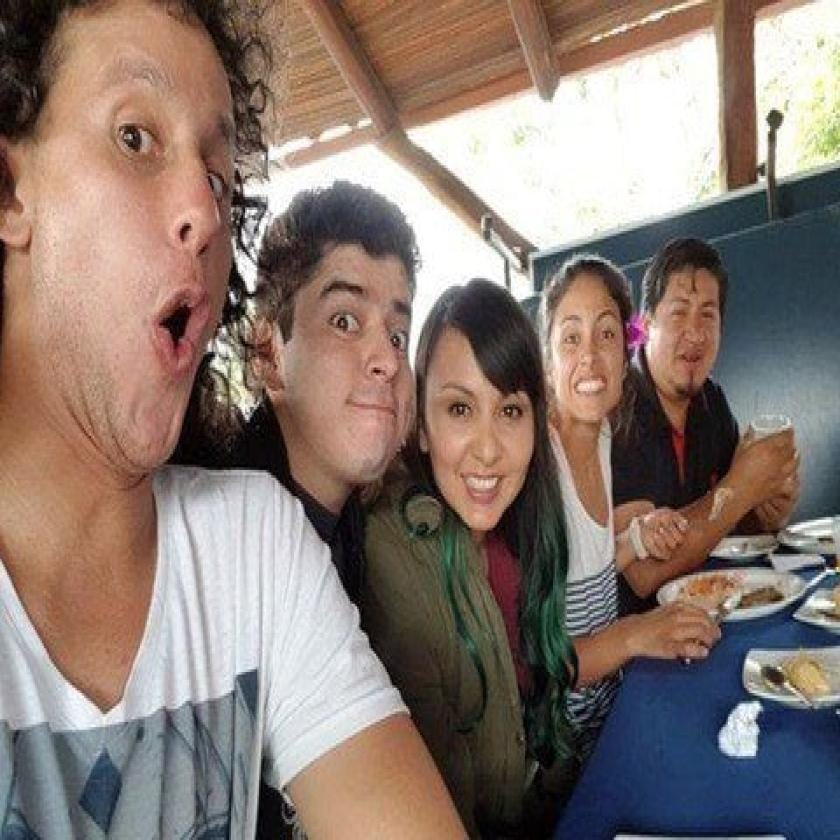Sin_casco: (0, 0, 248, 515), (262, 182, 424, 528), (416, 274, 543, 561), (547, 243, 641, 457), (646, 237, 736, 420)
